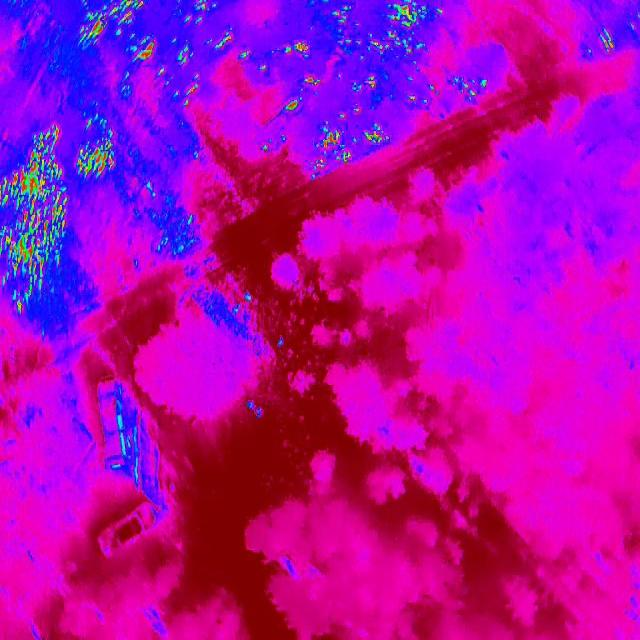fire: (0, 116, 72, 316), (67, 0, 168, 70), (304, 113, 395, 163), (361, 1, 428, 61), (72, 108, 120, 186), (447, 74, 489, 108), (280, 37, 314, 61), (186, 0, 214, 25), (593, 27, 618, 55), (348, 74, 382, 94), (282, 90, 306, 115), (214, 30, 237, 54), (177, 41, 196, 70), (300, 70, 322, 88)
